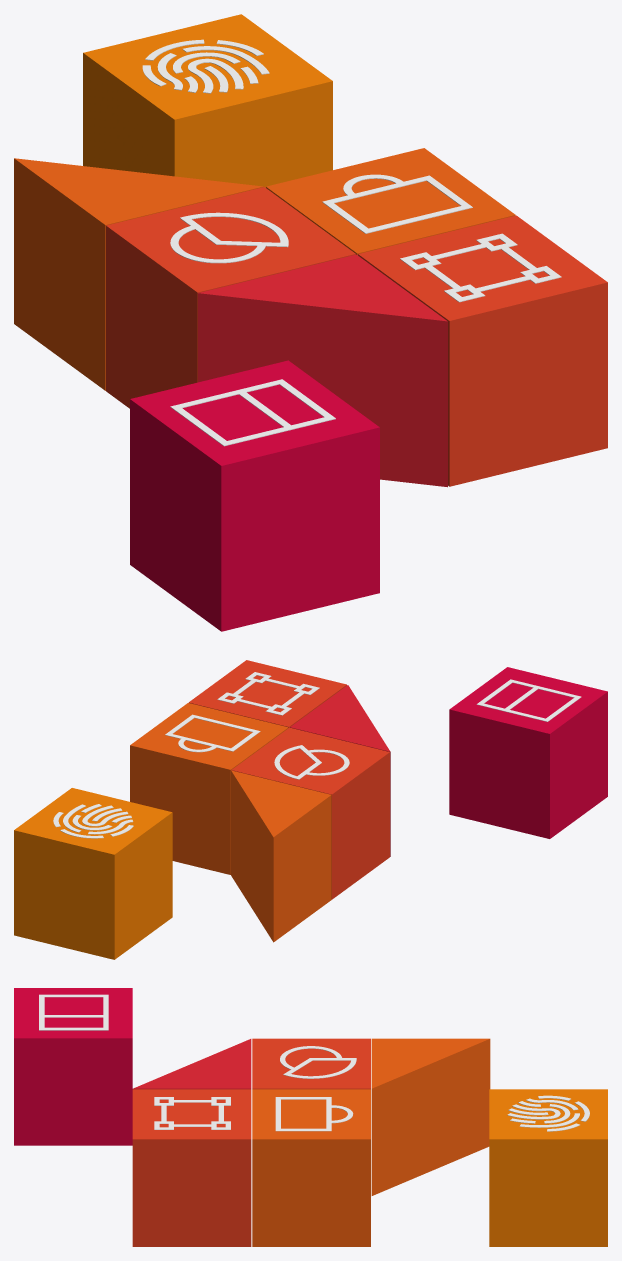
Rendered from nimble.glb.
3 views of the same model, one above another, from view 1: azimuth 30°, elevation 25°; view 2: azimuth 150°, elevation 25°; view 3: azimuth 270°, elevation 25° (orthographic). The views are drawn at different scales.
Parts seen in each view (by area): view 1: c b, c b r, c b t, c t, c c c, c t t, c c r, Curve.004, Curve.002, Web Development Icon, Curve.006, Curve.001; view 2: c b, c t, c c r, c t t, c c c, c b r, c b t, Curve.004, Curve.002, Web Development Icon, Curve.006, Curve.001; view 3: c c r, c b r, c b, c t, c t t, c c c, c b t, Curve.004, Web Development Icon, Curve.002, Curve.006, Curve.001.
Boxes of the visible parts, left/top/right/bottom form: c b: left=130, top=360, right=379, bottom=631; c b r: left=358, top=215, right=607, bottom=486; c b t: left=198, top=254, right=447, bottom=487; c t: left=83, top=14, right=332, bottom=187; c c c: left=106, top=187, right=355, bottom=408; c t t: left=14, top=158, right=263, bottom=390; c c r: left=266, top=148, right=515, bottom=255; Curve.004: left=142, top=39, right=269, bottom=93; Curve.002: left=400, top=233, right=561, bottom=302; Web Development Icon: left=170, top=379, right=335, bottom=446; Curve.006: left=322, top=174, right=472, bottom=233; Curve.001: left=170, top=212, right=288, bottom=263; c b: left=449, top=667, right=607, bottom=838; c t: left=14, top=788, right=172, bottom=959; c c r: left=130, top=703, right=288, bottom=874; c t t: left=231, top=770, right=331, bottom=942; c c c: left=231, top=727, right=389, bottom=899; c b r: left=188, top=660, right=346, bottom=727; c b t: left=290, top=685, right=390, bottom=856; Curve.004: left=53, top=804, right=133, bottom=838; Curve.002: left=217, top=672, right=319, bottom=715; Web Development Icon: left=476, top=679, right=581, bottom=721; Curve.006: left=165, top=714, right=260, bottom=752; Curve.001: left=274, top=745, right=349, bottom=779; c c r: left=252, top=1089, right=370, bottom=1246; c b r: left=132, top=1089, right=251, bottom=1246; c b: left=14, top=988, right=132, bottom=1145; c t: left=489, top=1089, right=607, bottom=1246; c t t: left=371, top=1038, right=490, bottom=1195; c c c: left=252, top=1038, right=370, bottom=1089; c b t: left=133, top=1039, right=251, bottom=1089; Curve.004: left=507, top=1095, right=589, bottom=1131; Web Development Icon: left=39, top=994, right=108, bottom=1030; Curve.002: left=154, top=1097, right=230, bottom=1129; Curve.006: left=275, top=1097, right=353, bottom=1131; Curve.001: left=280, top=1046, right=356, bottom=1078.
Size of what is drawn, in the model's own units: 6.03 by 2.01 by 10.01.
